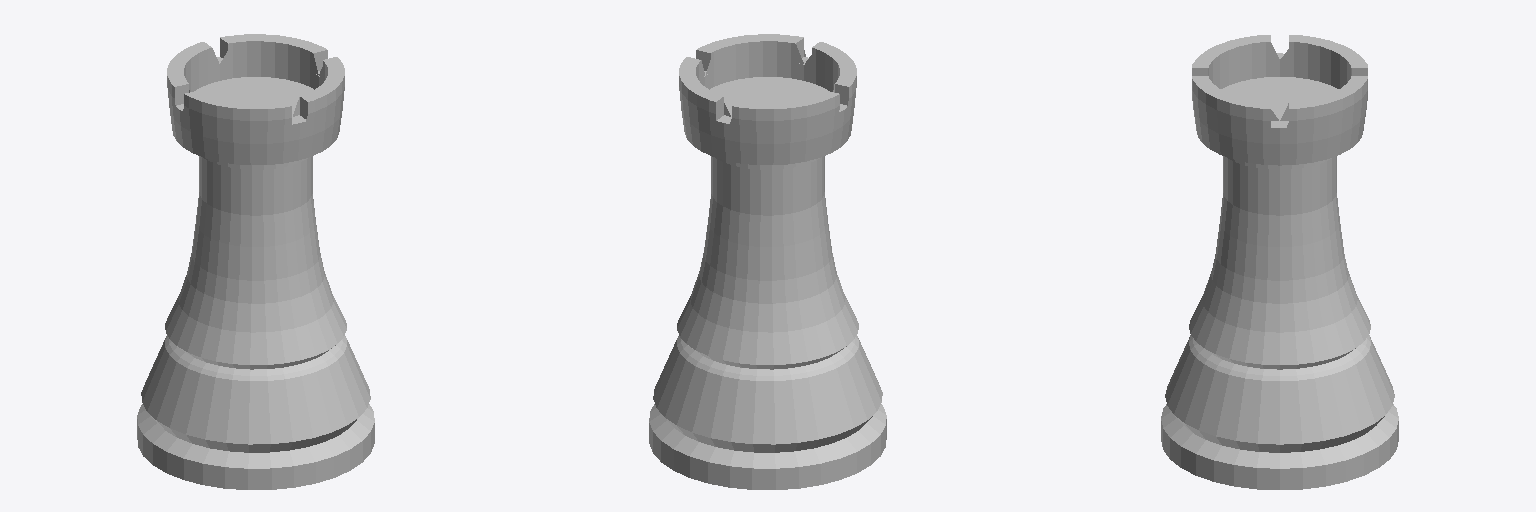
File: rook.obj
3 views of the same model, side by side, from view 1: azimuth 30°, elevation 25°; view 2: azimuth 150°, elevation 25°; view 3: azimuth 270°, elevation 25° (orthographic).
Visible parts, largest first — view 1: Cylinder; view 2: Cylinder; view 3: Cylinder.
Boxes of the visible parts, <box> form: Cylinder: <box>137,34,374,489</box>; Cylinder: <box>649,34,886,489</box>; Cylinder: <box>1161,35,1398,489</box>.
Bounding box in the file's own units: 2.85 × 4.86 × 2.85.